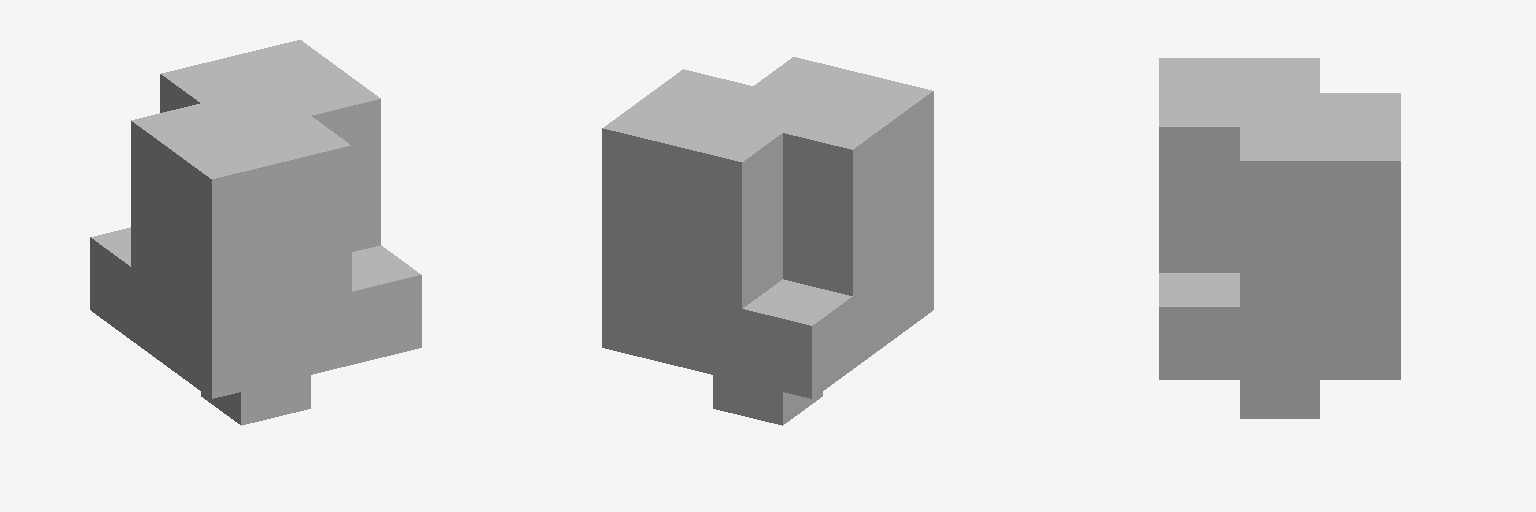
File: Arbusto 2.obj
3 views of the same model, side by side, from view 1: azimuth 30°, elevation 25°; view 2: azimuth 150°, elevation 25°; view 3: azimuth 270°, elevation 25° (orthographic).
Parts seen in each view (by area): view 1: object 1; view 2: object 1; view 3: object 1.
Boxes of the visible parts, box(x1,y1,x2,y2) form: object 1: box(90, 40, 421, 425); object 1: box(602, 57, 933, 425); object 1: box(1159, 58, 1400, 418).
Bounding box in the file's own units: 0.3 × 0.4 × 0.3.